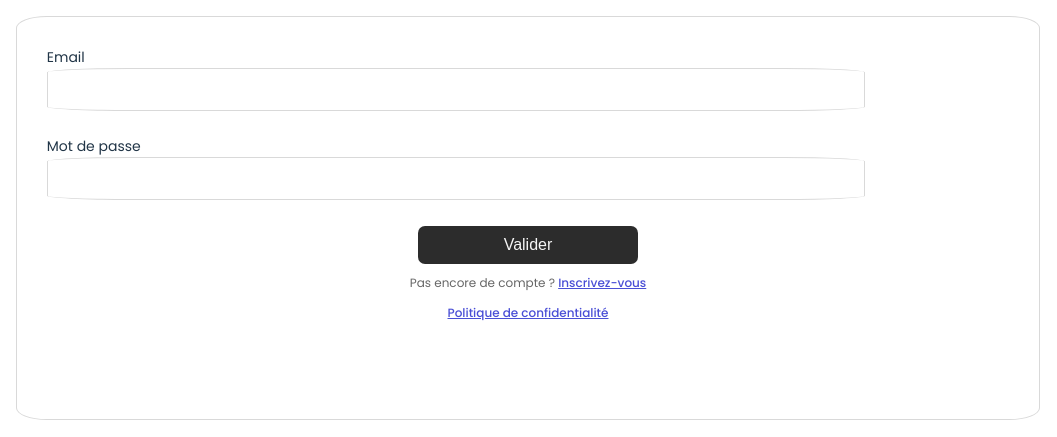
Scenario: LoginForm Validation › should display error when email is invalid
Type "invalidemail" into the field labelled "Email". click: (456, 90)
box: [47,68,865,111]
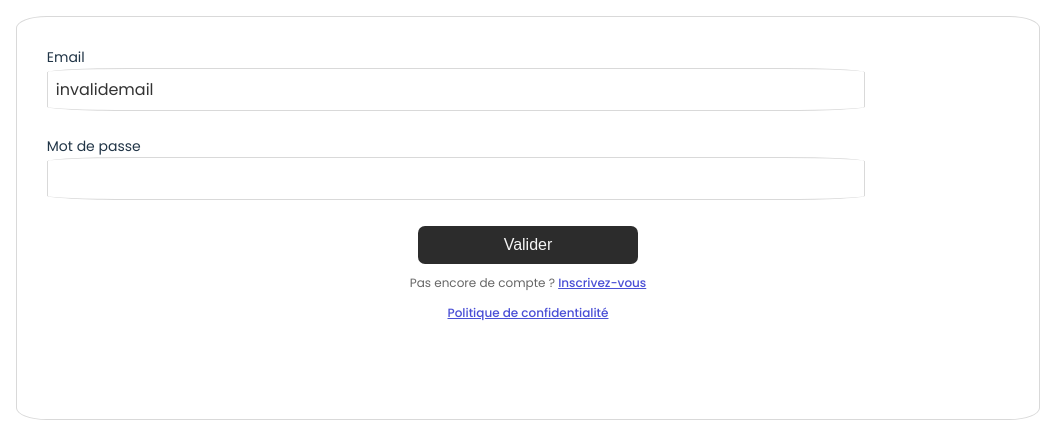
Type "password123" into the password field labelled "Mot de passe". click: (456, 179)
box: [47,157,865,200]
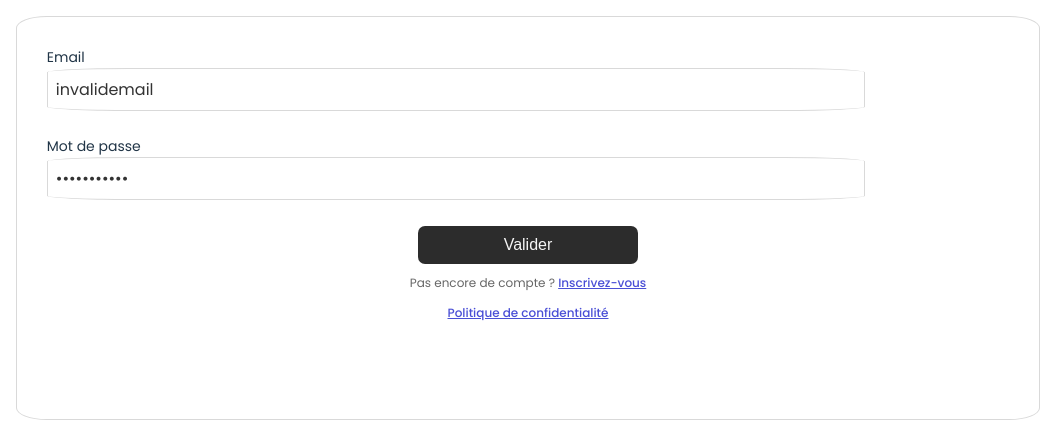
Click the button "Valider". click: (528, 244)
box: [418,226,638,264]
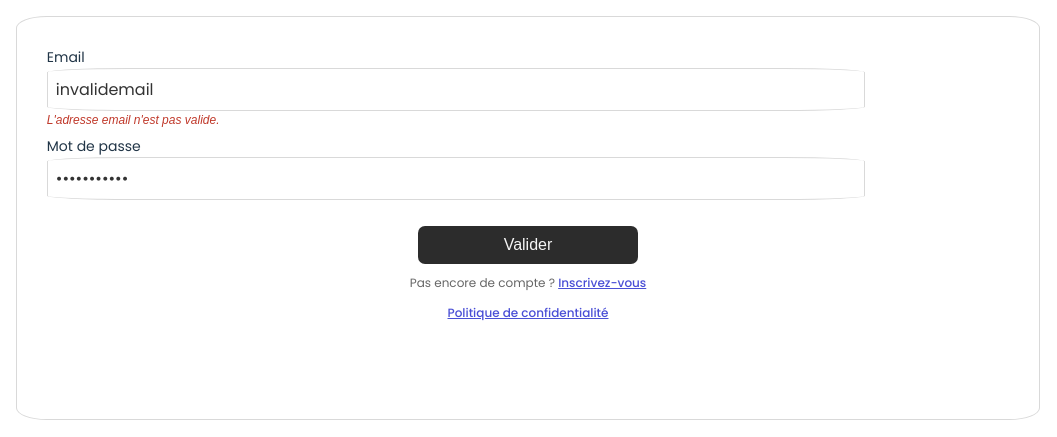
Now the text "L'adresse email n'est pas valide." is shown, box [47,113,220,127]
